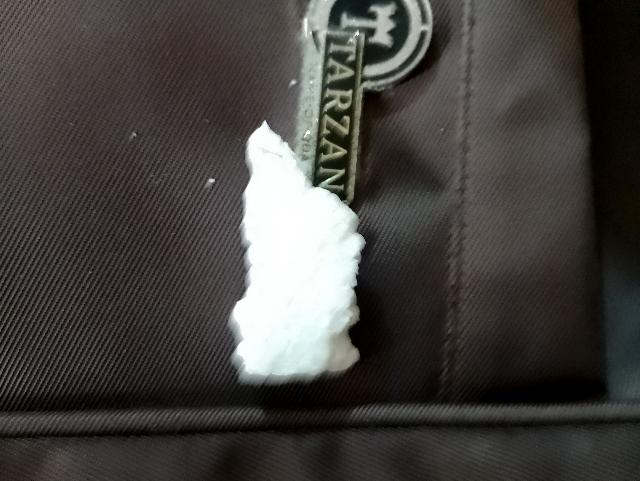cocksheet: (241, 131, 351, 387)
